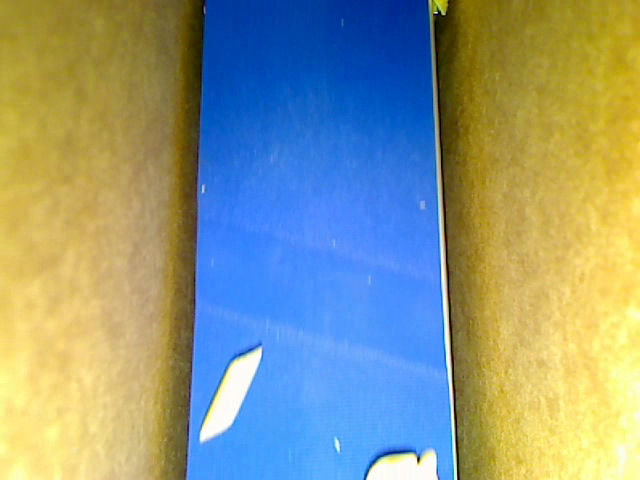penne: (198, 344, 262, 442)
